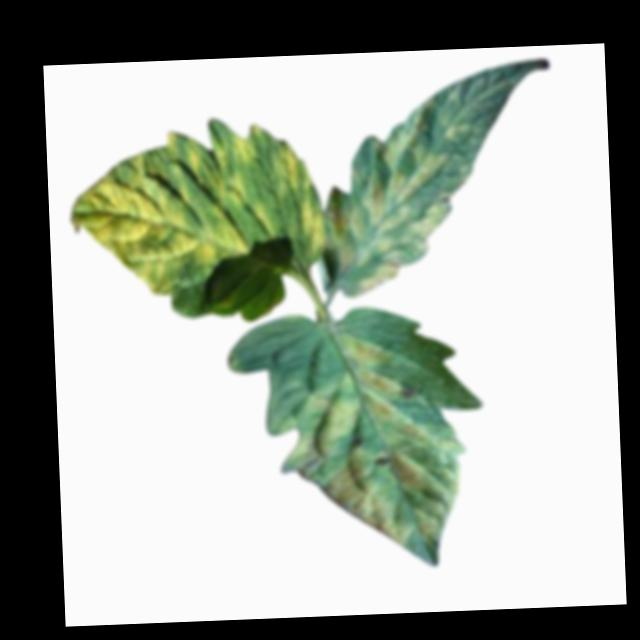Leaf_Mold: (61, 114, 328, 305), (270, 326, 472, 568), (318, 88, 475, 297)
